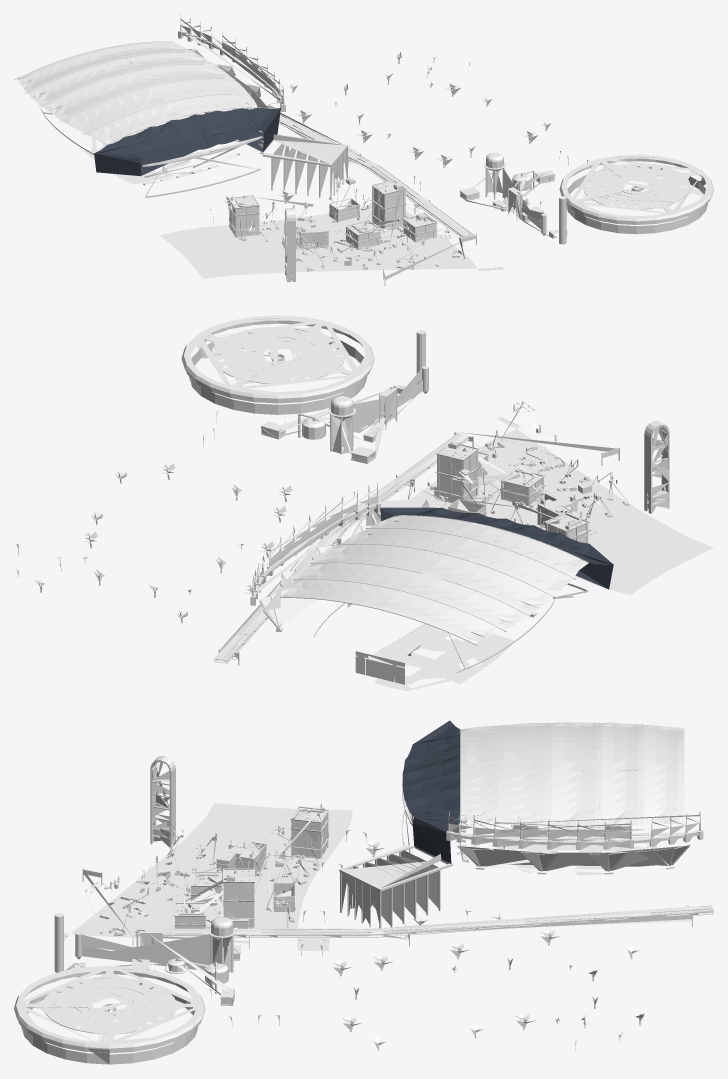
Rendered from street_island2_04.glb.
3 views of the same model, one above another, from view 1: azimuth 30°, elevation 25°; view 2: azimuth 150°, elevation 25°; view 3: azimuth 270°, elevation 25° (orthographic). The views are drawn at different scales.
Visible parts, largest first — view 1: seg_447, seg_372, seg_841, seg_932, seg_564, seg_842, seg_466, seg_566, seg_452, seg_462, seg_725, seg_839 (+7 smaller); view 2: seg_447, seg_841, seg_372, seg_842, seg_566, seg_466, seg_449, seg_932, seg_28, seg_966, seg_452, seg_786 (+8 smaller); view 3: seg_447, seg_841, seg_372, seg_566, seg_842, seg_564, seg_932, seg_466, seg_786, seg_966, seg_462, seg_758 (+9 smaller).
Boxes of the visible parts, x1,y1,x2,y2 form: seg_447: (17,41,257,143); seg_372: (159,205,477,278); seg_841: (559,154,713,234); seg_932: (94,108,280,176); seg_564: (142,134,348,199); seg_842: (459,153,567,244); seg_466: (345,179,437,249); seg_566: (178,14,285,132); seg_452: (14,41,261,145); seg_462: (228,195,313,237); seg_725: (333,182,433,253); seg_839: (282,220,329,249); seg_447: (284,515,583,643); seg_841: (181,315,374,414); seg_372: (411,429,713,595); seg_842: (261,330,428,463); seg_566: (250,482,380,631); seg_466: (434,444,544,505); seg_449: (374,629,513,691); seg_932: (380,507,613,589); seg_28: (313,595,573,684); seg_966: (644,420,669,513); seg_452: (280,515,588,645); seg_786: (214,520,351,661); seg_447: (461,722,683,827); seg_841: (14,965,205,1064); seg_372: (71,803,352,937); seg_566: (446,811,703,874); seg_842: (54,913,240,1005); seg_564: (339,780,504,928); seg_932: (402,720,460,863); seg_466: (174,868,254,928); seg_786: (367,905,713,935); seg_966: (150,756,175,847); seg_462: (278,806,329,858); seg_758: (134,928,367,935).
Size of the model in its own units: 426 by 69.11 by 441.
